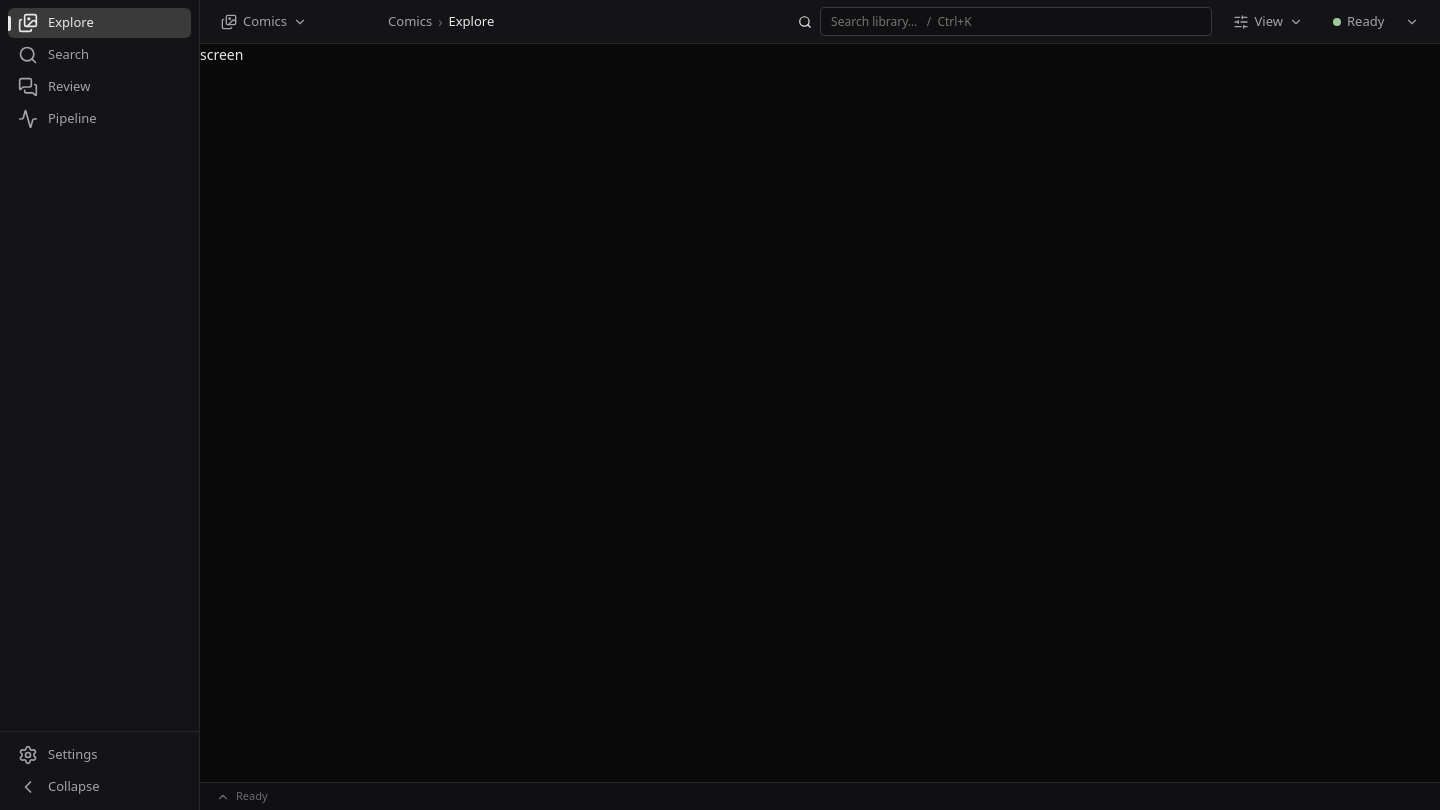
library switcher (NAV-10) › lists the libraries and marks the active one
Click the button with class "library-trigger" at (264, 22), box [212,6,316,36]
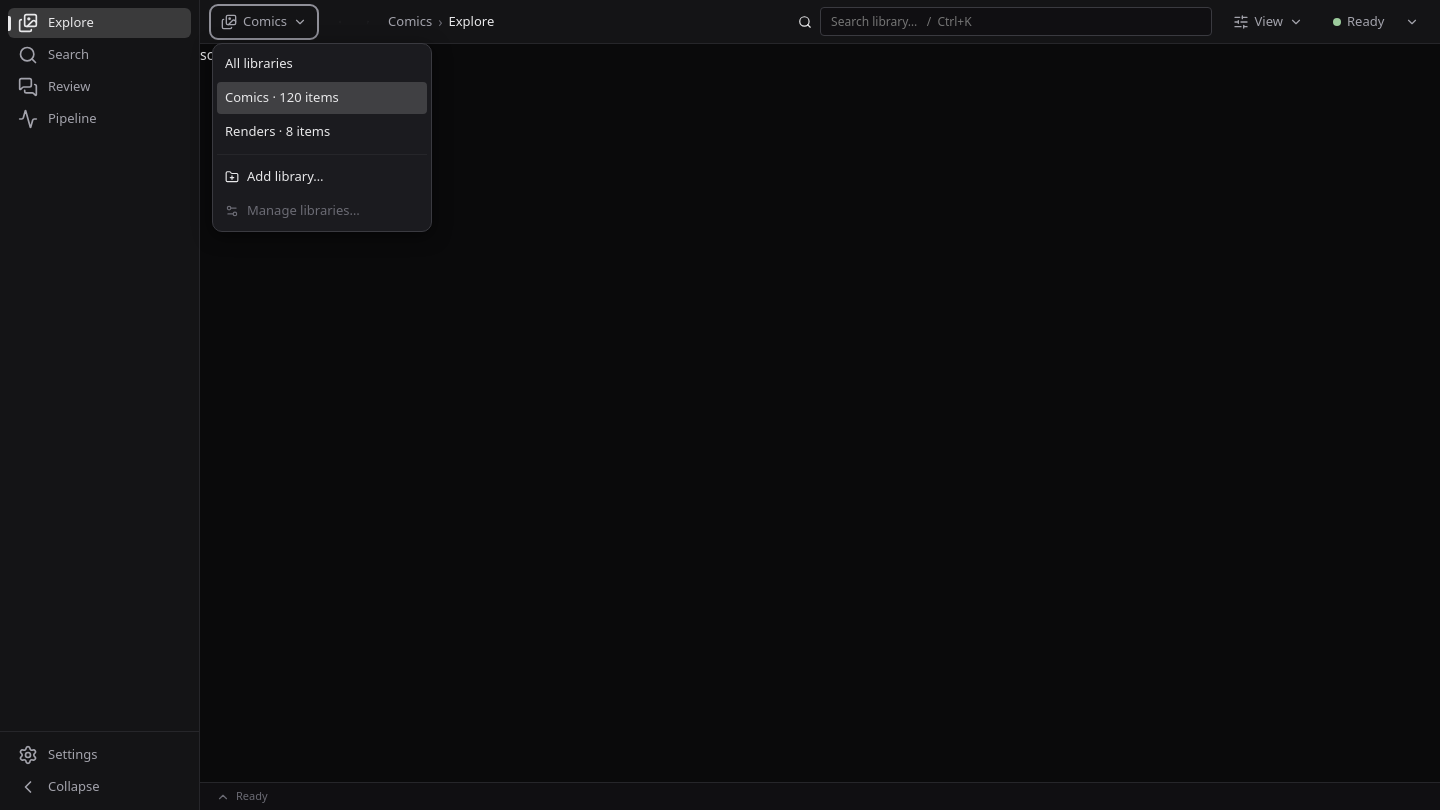
Now the text "All libraries" is shown, box [225,54,293,73]
